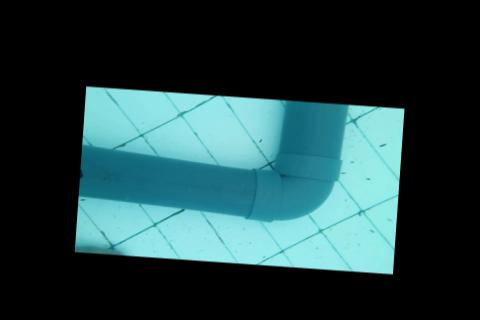kebocoran: (78, 164, 85, 181)
